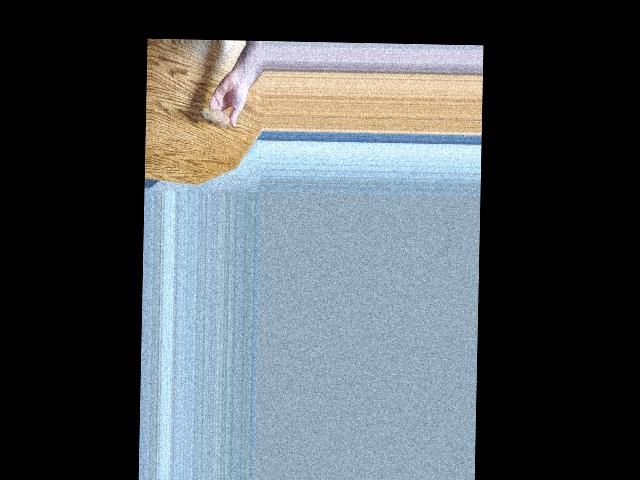sweet_potato: (202, 105, 232, 124)
